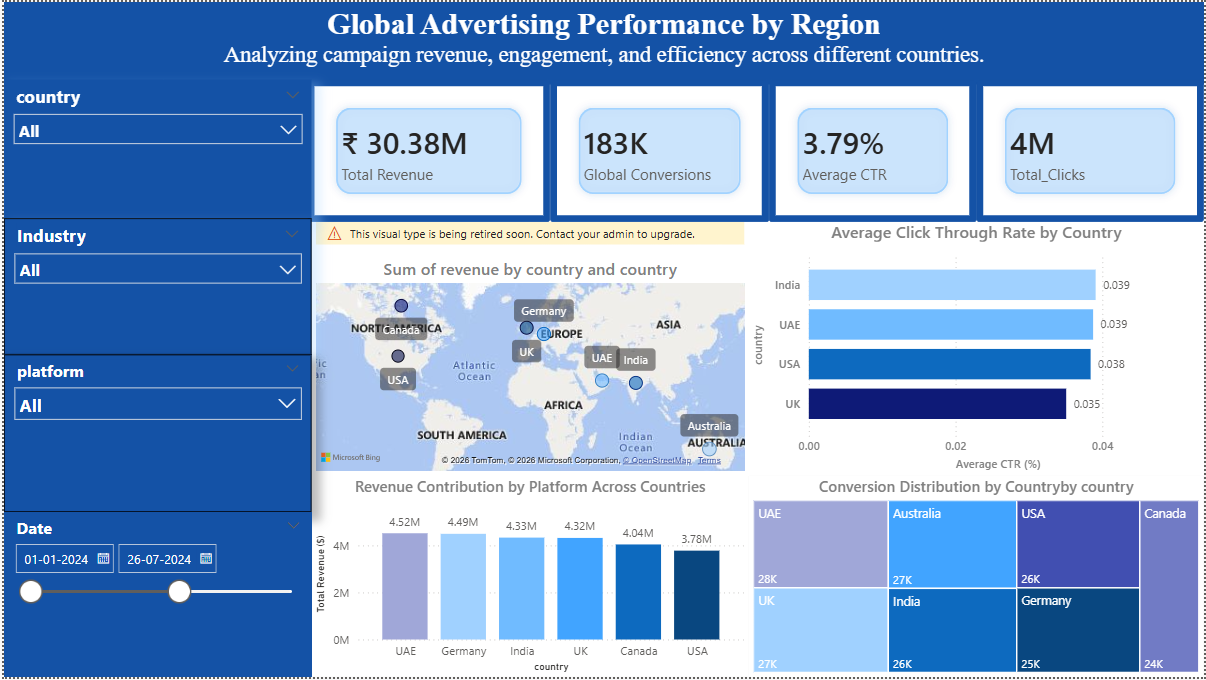

What the dashboard file says about the page in this screenshot:
{"tool":"powerbi","page":{"name":"Geographic Analysis","canvas":[1280,720],"ordinal":3},"visuals":[{"type":"textbox","box":[0,0,1280,88],"z":0},{"type":"map","fields":{"Category":["global_ads_performance_dataset.country"],"Size":["Sum(global_ads_performance_dataset.revenue)"],"Series":["global_ads_performance_dataset.country"]},"box":[328,234.7,466.7,270.7],"z":9000},{"type":"clusteredBarChart","title":"Average Click Through Rate by Country","fields":{"Category":["global_ads_performance_dataset.country"],"Y":["global_ads_performance_dataset.Avg_CTR"]},"box":[794.7,233.3,485.3,272],"z":10000},{"type":"columnChart","title":"Revenue Contribution by Platform Across Countries","fields":{"Category":["global_ads_performance_dataset.country"],"Y":["global_ads_performance_dataset.Total_Revenue"],"Series":["global_ads_performance_dataset.country"]},"box":[328,505.3,466.7,214.7],"z":11000},{"type":"treemap","title":"Conversion Distribution by Countryby country","fields":{"Group":["global_ads_performance_dataset.country"],"Values":["global_ads_performance_dataset.Total_Conversions_global"]},"box":[795,505,485,215],"z":12000},{"type":"cardVisual","fields":{"Data":["global_ads_performance_dataset.Total_Revenue"]},"box":[324,82.7,258.7,152],"z":12001},{"type":"cardVisual","fields":{"Data":["global_ads_performance_dataset.Total_Conversions_global"]},"box":[582.7,82.7,233.3,152],"z":12002},{"type":"cardVisual","fields":{"Data":["global_ads_performance_dataset.Avg_CTR"]},"box":[816,82.7,221.3,152],"z":12003},{"type":"cardVisual","fields":{"Data":["global_ads_performance_dataset.Total_Clicks"]},"box":[1037.3,82.7,242.7,152],"z":12004},{"type":"slicer","fields":{"Values":["global_ads_performance_dataset.country"]},"box":[0,82.7,328,148],"z":12005},{"type":"slicer","fields":{"Values":["global_ads_performance_dataset.industry"]},"box":[0,230.7,328,145.3],"z":12006},{"type":"slicer","fields":{"Values":["global_ads_performance_dataset.platform"]},"box":[0,376,328,168],"z":12007},{"type":"slicer","fields":{"Values":["global_ads_performance_dataset.date"]},"box":[0,544,328,176],"z":12008}]}

Visuals, with their boxes in screenshot pixels (x1, y1, x2, y2), scaled from the page's 1280x720 canvas onto the 1206x680 screenshot:
textbox: box(0, 0, 1205, 83)
map - global_ads_performance_dataset.country x Sum(global_ads_performance_dataset.revenue): box(309, 222, 749, 477)
"Average Click Through Rate by Country" clusteredBarChart: box(749, 220, 1205, 477)
"Revenue Contribution by Platform Across Countries" columnChart: box(309, 477, 749, 679)
"Conversion Distribution by Countryby country" treemap: box(749, 477, 1205, 679)
cardVisual - global_ads_performance_dataset.Total_Revenue: box(305, 78, 549, 222)
cardVisual - global_ads_performance_dataset.Total_Conversions_global: box(549, 78, 769, 222)
cardVisual - global_ads_performance_dataset.Avg_CTR: box(769, 78, 977, 222)
cardVisual - global_ads_performance_dataset.Total_Clicks: box(977, 78, 1205, 222)
slicer - global_ads_performance_dataset.country: box(0, 78, 309, 218)
slicer - global_ads_performance_dataset.industry: box(0, 218, 309, 355)
slicer - global_ads_performance_dataset.platform: box(0, 355, 309, 514)
slicer - global_ads_performance_dataset.date: box(0, 514, 309, 679)
